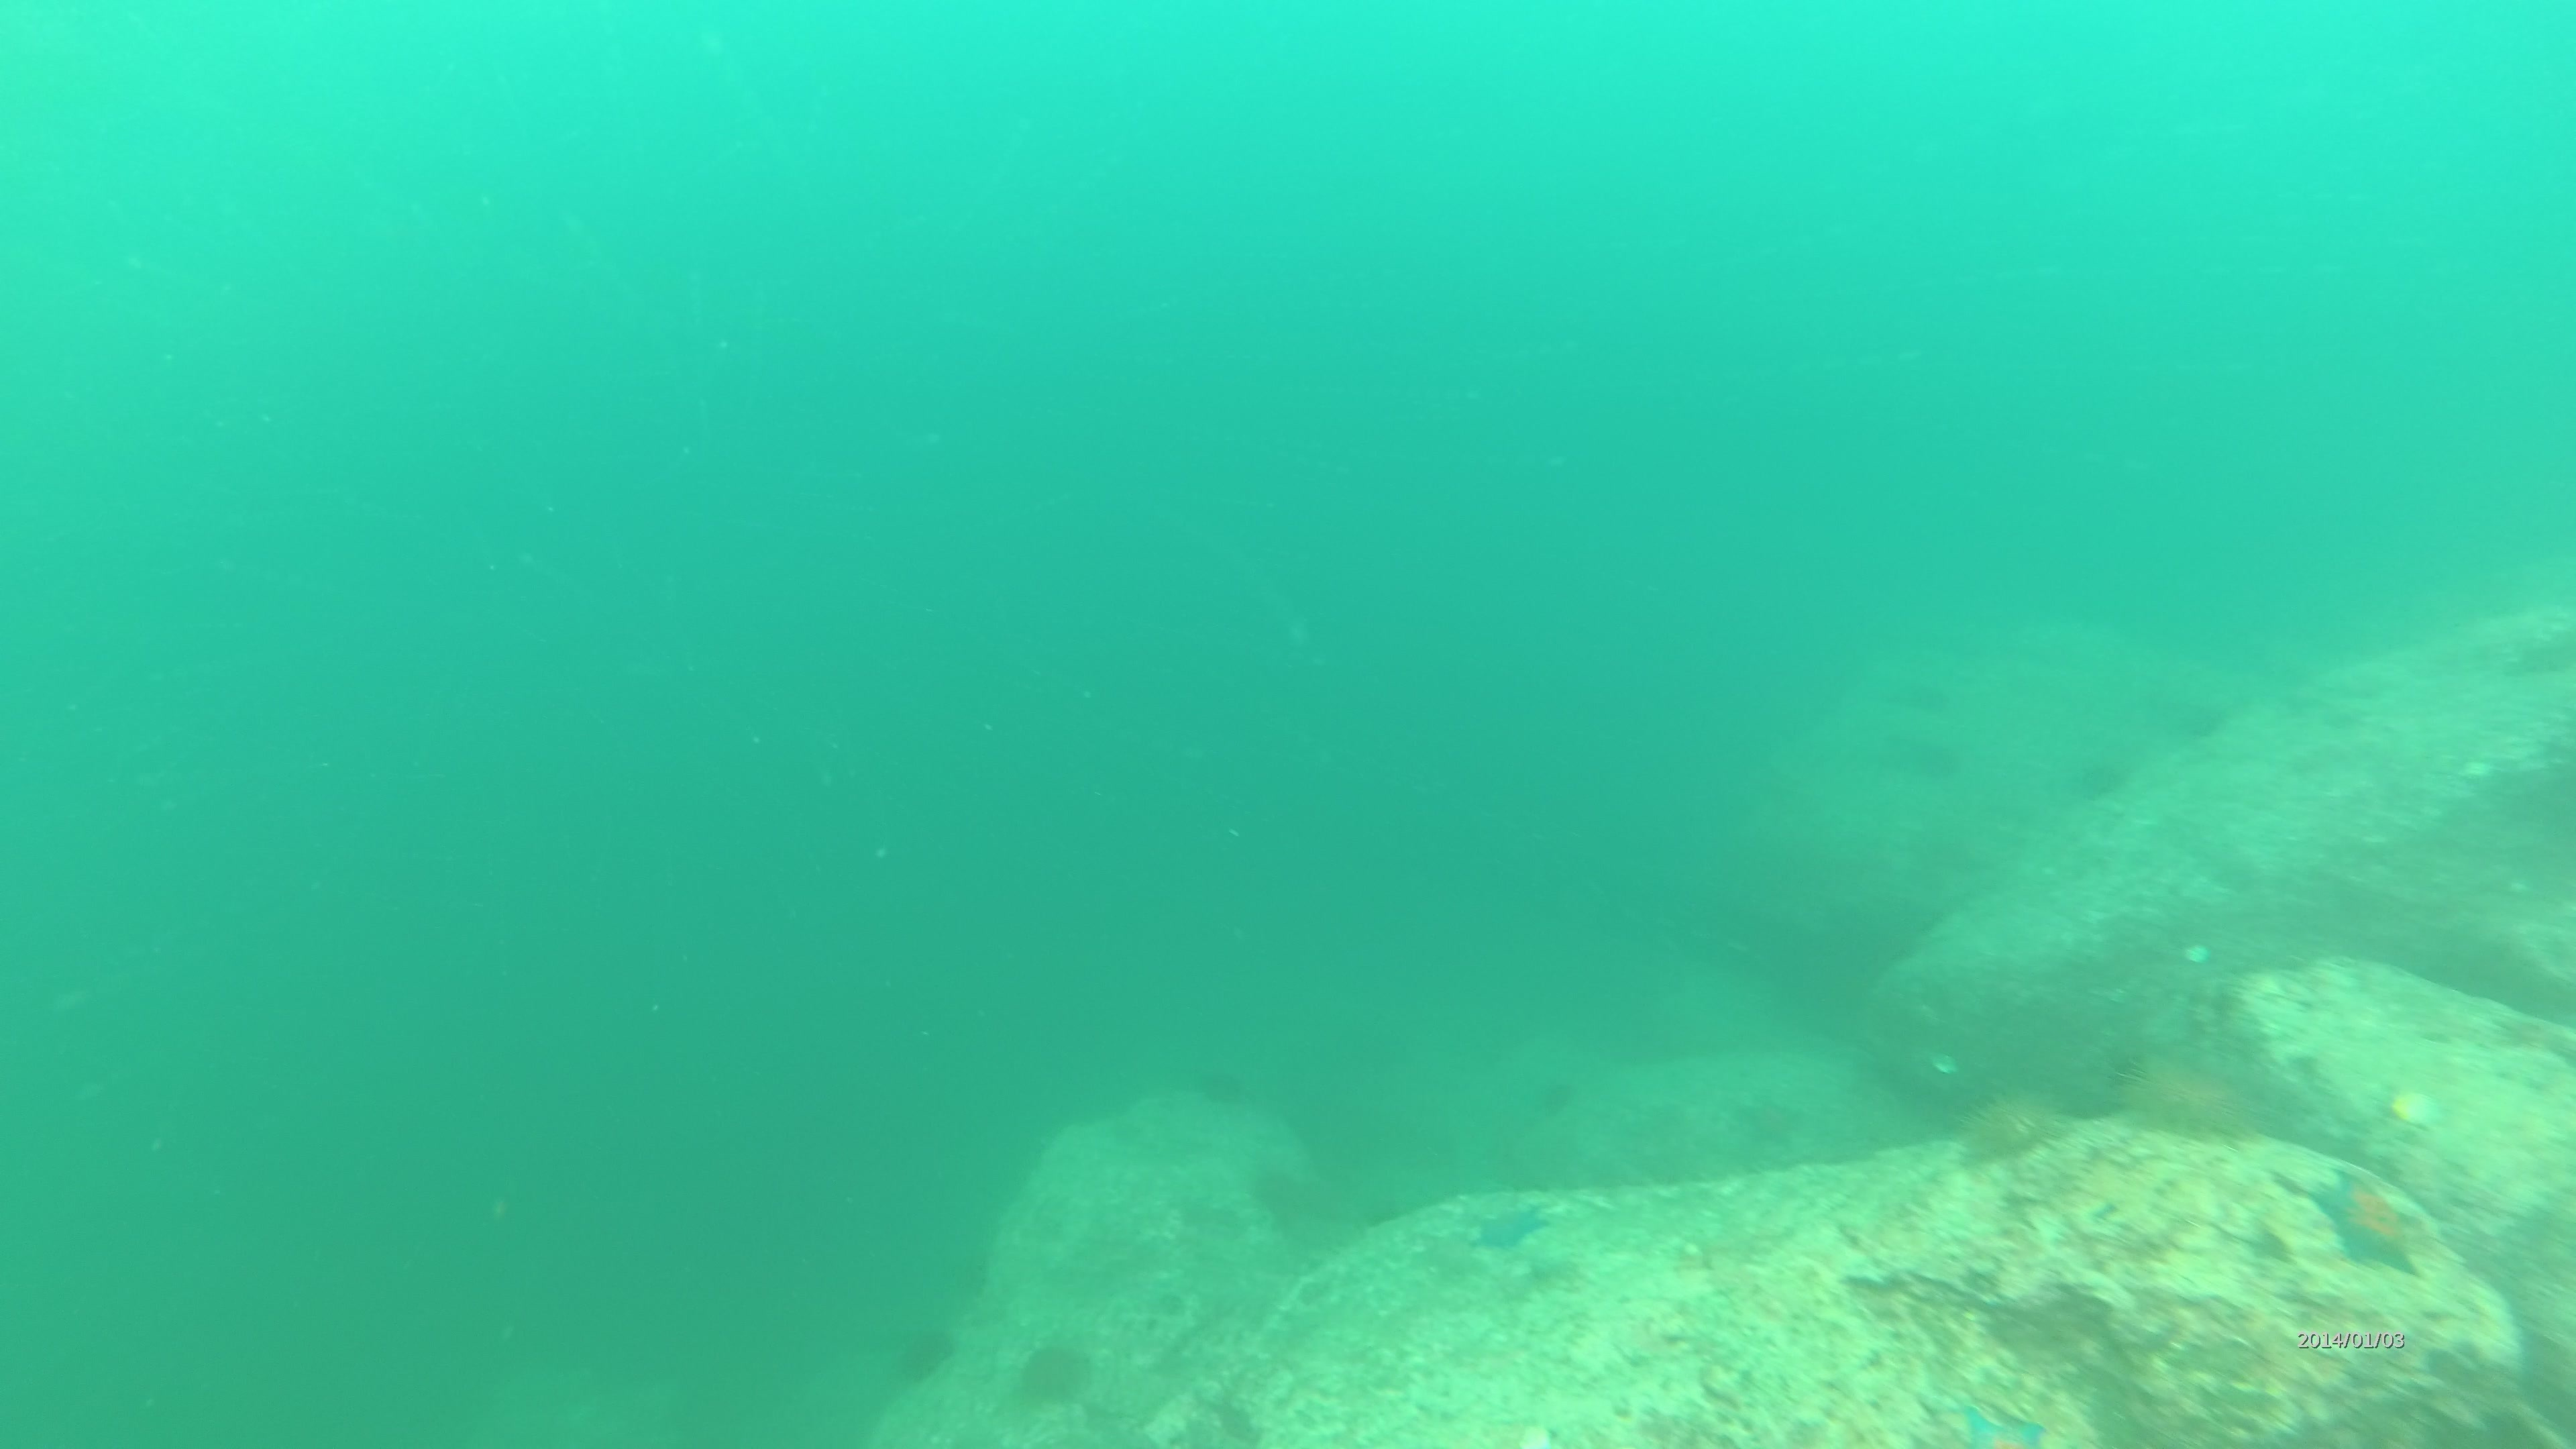echinus: (2116, 1040, 2263, 1148), (1951, 1081, 2074, 1171), (1008, 1330, 1099, 1414), (885, 1313, 959, 1385), (2065, 743, 2134, 807)
starfish: (2307, 1159, 2434, 1279), (1934, 1384, 2051, 1442), (1463, 1192, 1553, 1256), (1732, 1092, 1799, 1145)
